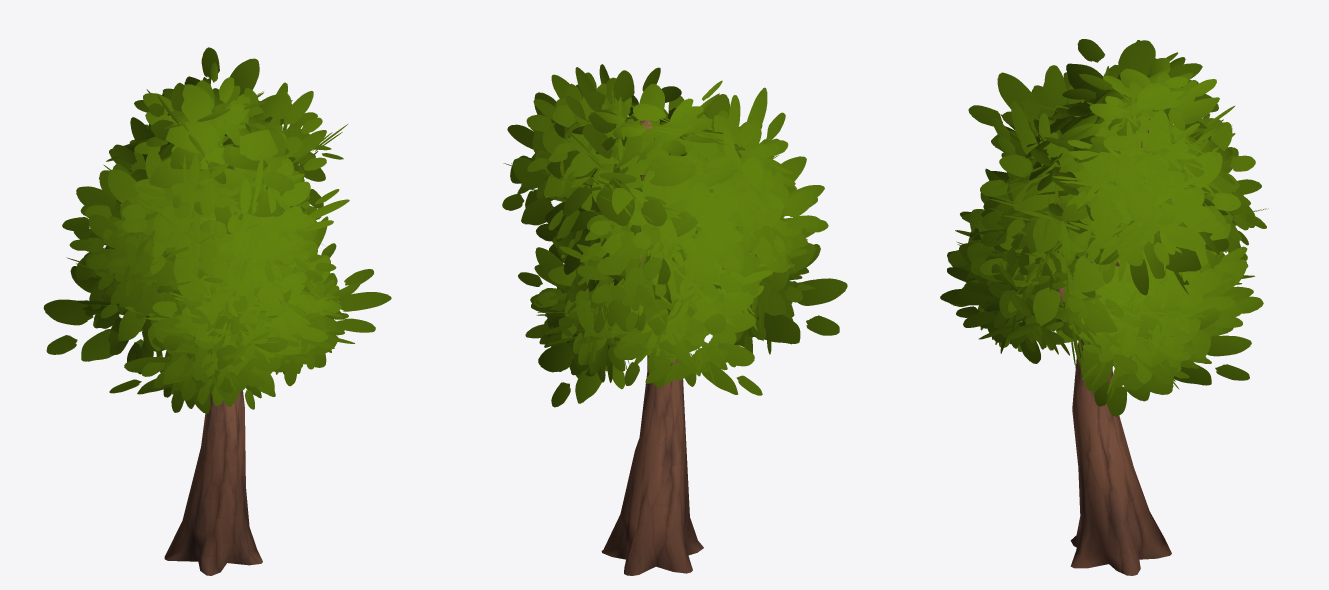
File: tree_free_model_b_b_b_lo.glb
3 renders of one model, left to right at view 1: azimuth 30°, elevation 25°; view 2: azimuth 150°, elevation 25°; view 3: azimuth 270°, elevation 25°, orthographic. The views are drawn at different scales.
Visible parts, largest first — view 1: CommonTree_1; view 2: CommonTree_1; view 3: CommonTree_1.
Boxes of the visible parts, <box> form: CommonTree_1: <box>43,47,391,575</box>; CommonTree_1: <box>502,64,847,575</box>; CommonTree_1: <box>940,39,1268,575</box>.
Bounding box in the file's own units: 5.67 × 7.68 × 5.44.
2 materials, 2 textured.
